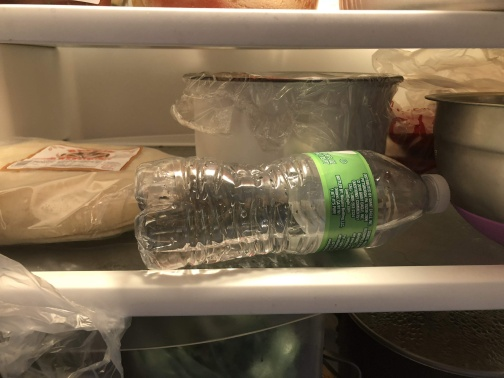bottle: (132, 147, 456, 273)
